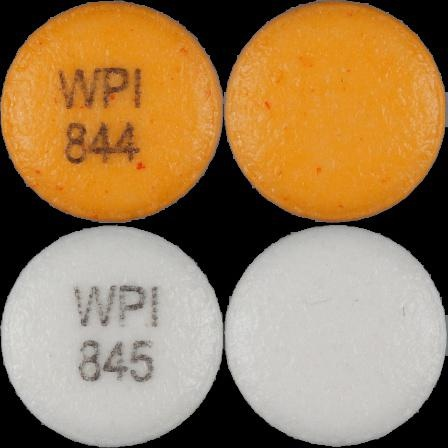0591-0844: (0, 0, 224, 224)
